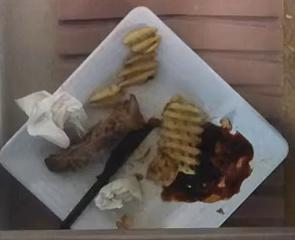fries: (89, 27, 161, 106), (145, 95, 205, 184)
